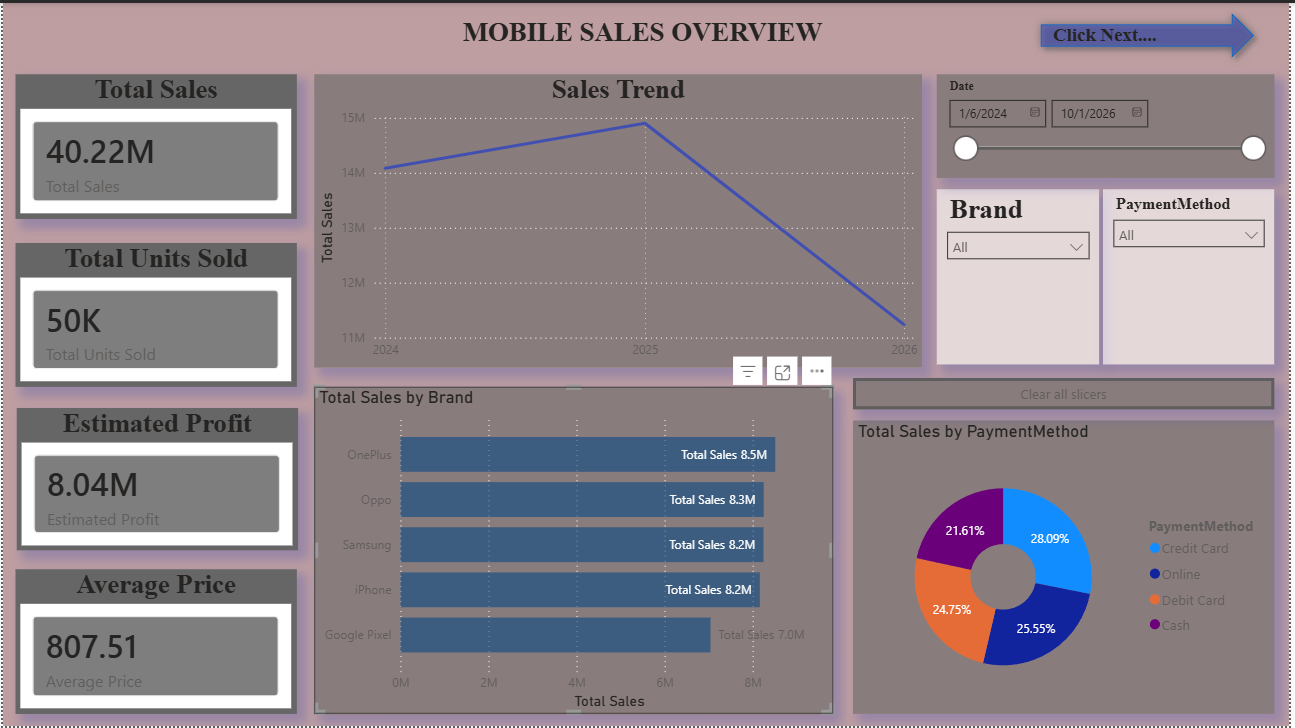

Layout of this report page (visuals, bound fields, positions):
{"tool":"powerbi","page":{"name":"Page 1","canvas":[1280,720],"ordinal":0},"visuals":[{"type":"cardVisual","title":"Total Sales","fields":{"Data":["mobile_sales.Total Sales"]},"box":[12.4,70.9,279.9,144.3],"z":0},{"type":"cardVisual","title":"Total Units Sold","fields":{"Data":["mobile_sales.Total Units Sold"]},"box":[12.4,238.8,279.9,143.1],"z":1000},{"type":"cardVisual","title":"Average Price","fields":{"Data":["mobile_sales.Average Price"]},"box":[12.3,564,279.9,144.1],"z":2000},{"type":"cardVisual","title":"Estimated Profit","fields":{"Data":["mobile_sales.Estimated Profit"]},"box":[13.7,403,279.9,141.8],"z":3000},{"type":"lineChart","title":"Sales Trend","fields":{"Category":["mobile_sales.Date.Variation.Date Hierarchy.Year","mobile_sales.Date.Variation.Date Hierarchy.Quarter","mobile_sales.Date.Variation.Date Hierarchy.Month","mobile_sales.Date.Variation.Date Hierarchy.Day"],"Y":["mobile_sales.Total Sales"]},"box":[310.1,71.4,605.1,292.3],"z":4000},{"type":"barChart","fields":{"Category":["mobile_sales.Brand"],"Y":["mobile_sales.Total Sales"]},"box":[310.1,381.5,516,326.6],"z":5000},{"type":"donutChart","fields":{"Category":["mobile_sales.PaymentMethod"],"Y":["mobile_sales.Total Sales"]},"box":[845.9,415.5,419.2,292.3],"z":6000},{"type":"textbox","box":[348.3,8.7,582.2,47.3],"z":7000},{"type":"slicer","fields":{"Values":["mobile_sales.Brand"]},"box":[929.2,185.3,161.7,174.2],"z":7000,"group":"g1"},{"type":"slicer","fields":{"Values":["mobile_sales.Date"]},"box":[929.2,70.9,335.9,103.2],"z":8000,"group":"g1"},{"type":"actionButton","box":[845.9,373.2,419.2,31.1],"z":8000},{"type":"group","id":"g1","title":"Group 1","box":[929.2,70.9,335.9,288.6],"z":9000},{"type":"slicer","fields":{"Values":["mobile_sales.PaymentMethod"]},"box":[1094.6,185.3,170.4,174.2],"z":9000,"group":"g1"},{"type":"shape","box":[1023.8,1.2,230.1,62.2],"z":10000,"group":"g2"},{"type":"textbox","box":[1040,16.1,140.6,33.6],"z":11000,"group":"g2"},{"type":"group","id":"g2","title":"Group 2","box":[1023.8,1.2,230.1,62.2],"z":11001}]}

Visuals, with their boxes in screenshot pixels (x1, y1, x2, y2), scaled from the page's 1280x720 canvas onto the 1295x728 screenshot:
"Total Sales" cardVisual: crop(13, 72, 296, 218)
"Total Units Sold" cardVisual: crop(13, 241, 296, 386)
"Average Price" cardVisual: crop(12, 570, 296, 716)
"Estimated Profit" cardVisual: crop(14, 407, 297, 551)
"Sales Trend" lineChart: crop(314, 72, 926, 368)
barChart - mobile_sales.Brand x mobile_sales.Total Sales: crop(314, 386, 836, 716)
donutChart - mobile_sales.PaymentMethod x mobile_sales.Total Sales: crop(856, 420, 1280, 716)
textbox: crop(352, 9, 941, 57)
slicer - mobile_sales.Brand: crop(940, 187, 1104, 363)
slicer - mobile_sales.Date: crop(940, 72, 1280, 176)
actionButton: crop(856, 377, 1280, 409)
"Group 1" group: crop(940, 72, 1280, 363)
slicer - mobile_sales.PaymentMethod: crop(1107, 187, 1280, 363)
shape: crop(1036, 1, 1269, 64)
textbox: crop(1052, 16, 1194, 50)
"Group 2" group: crop(1036, 1, 1269, 64)
